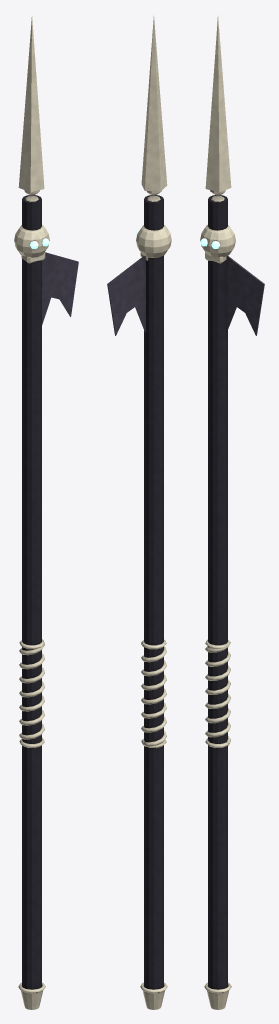
The model's file is 09_dead_spear.fbx.
3 views of the same model, side by side, from view 1: azimuth 30°, elevation 25°; view 2: azimuth 210°, elevation 25°; view 3: azimuth 330°, elevation 25° (orthographic).
Visible parts, largest first — view 1: Weapon; view 2: Weapon; view 3: Weapon.
Part boxes in pixels (box(x1,y1,x2,y2)): Weapon: box(14, 16, 78, 1009); Weapon: box(107, 16, 171, 1009); Weapon: box(200, 15, 264, 1009).
Bounding box in the file's own units: 14.66 × 224 × 7.61.
Materials: 2 (1 with a texture image).
